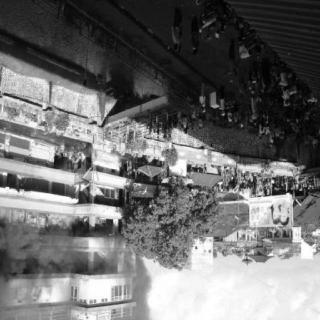Fire: (4, 208, 74, 238)
